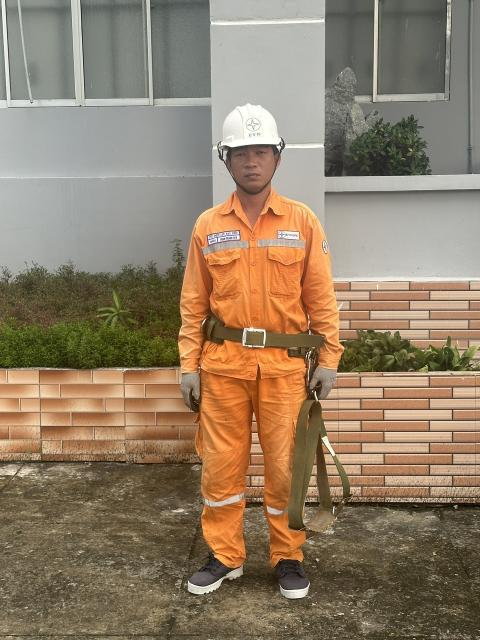gloves: (163, 370, 212, 418), (306, 355, 342, 413)
harness: (208, 304, 344, 364)
helmet: (221, 106, 292, 155)
shoes: (175, 533, 261, 600), (261, 546, 322, 600)
